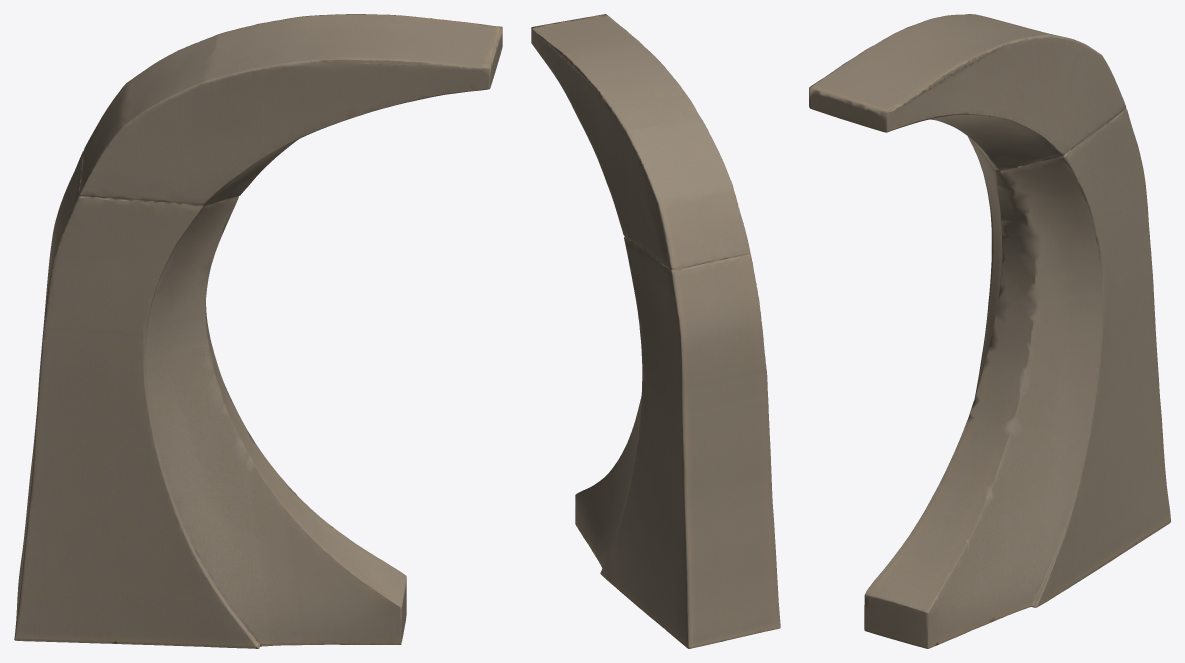
Rendered from columnavet2.glb.
3 views of the same model, side by side, from view 1: azimuth 30°, elevation 25°; view 2: azimuth 150°, elevation 25°; view 3: azimuth 270°, elevation 25° (orthographic). The views are drawn at different scales.
Parts seen in each view (by area): view 1: tripo_node_717cedbe-28eb-4952-8610-e3ee8ce2339b; view 2: tripo_node_717cedbe-28eb-4952-8610-e3ee8ce2339b; view 3: tripo_node_717cedbe-28eb-4952-8610-e3ee8ce2339b.
Boxes of the visible parts, x1,y1,x2,y2 form: tripo_node_717cedbe-28eb-4952-8610-e3ee8ce2339b: (14, 14, 502, 648); tripo_node_717cedbe-28eb-4952-8610-e3ee8ce2339b: (531, 14, 780, 648); tripo_node_717cedbe-28eb-4952-8610-e3ee8ce2339b: (809, 14, 1170, 648).
Bounding box in the file's own units: 0.6919 × 0.9792 × 0.554.
Materials: 1 (1 with a texture image).
